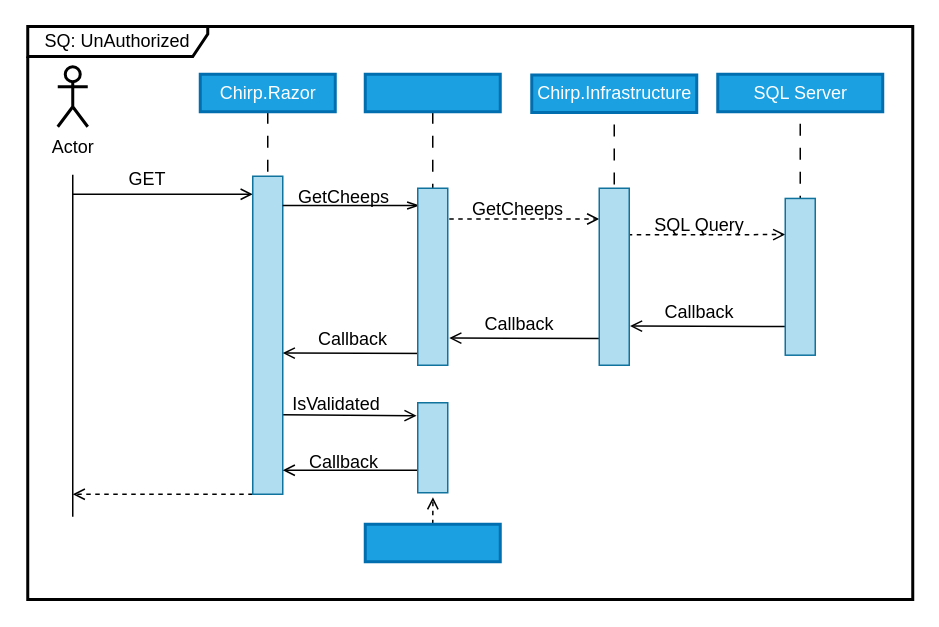
Some shapes in this 939 by 627 pixel diagram are drawn without their labels. The shapes that lost their labels are listed below. From the top down, each one's centre as x and y in pixels, then its label:
point (432, 92): Chirp.Core
point (432, 542): Oauth-Github
